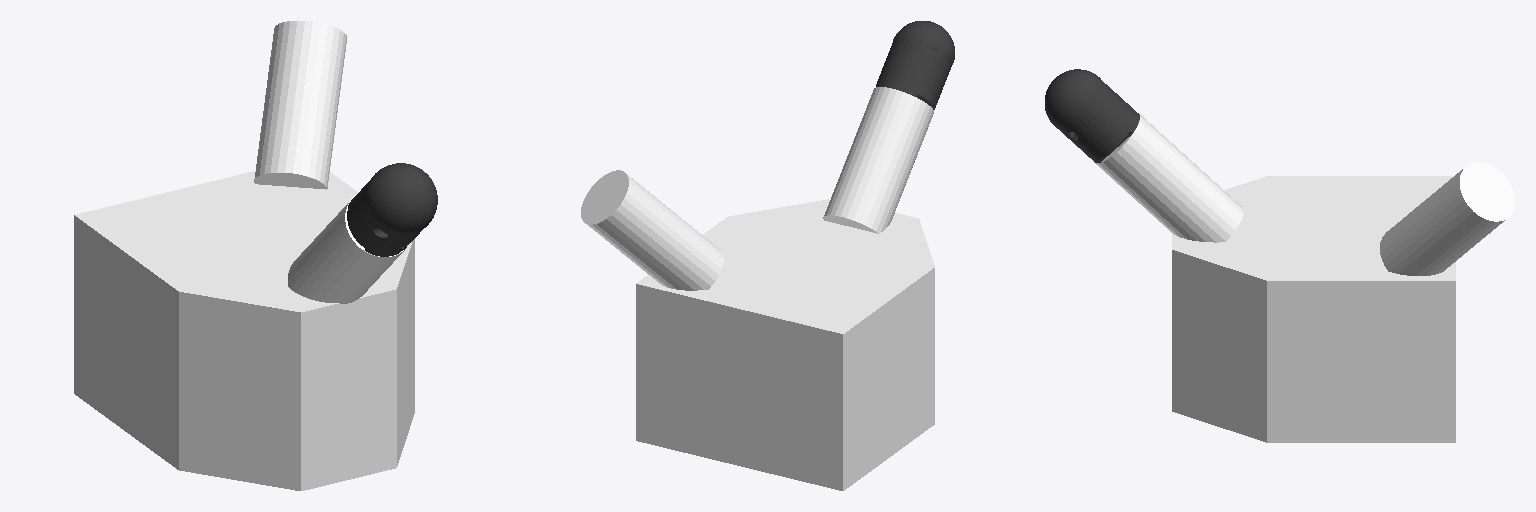
robot.urdf — nasa_hand_urdf:
<?xml version="1.0" encoding="utf-8"?>
<!-- This URDF was automatically created by SolidWorks to URDF Exporter! Originally created by [author] ([email redacted])
     Commit Version: 1.6.0-4-g7f85cfe  Build Version: 1.6.7995.38578
     For more information, please see http://wiki.ros.org/sw_urdf_exporter -->
<robot
  name="nasa_hand_urdf">
  <link
    name="base_link_palm">
    <inertial>
      <origin
        xyz="-0.00055762 0.0025414 0.029616"
        rpy="0 0 0" />
      <mass
        value="0.25708" />
      <inertia
        ixx="7.458E-05"
        ixy="1.1865E-07"
        ixz="5.4297E-08"
        iyy="7.7907E-05"
        iyz="1.2345E-07"
        izz="0.00012736" />
    </inertial>
    <visual>
      <origin
        xyz="0 0 0"
        rpy="0 0 0" />
      <geometry>
        <mesh
          filename="package://nasa_hand_urdf/meshes/base_link_palm.STL" />
      </geometry>
      <material
        name="">
        <color
          rgba="1 1 1 0.3" />
      </material>
    </visual>
    <collision>
      <origin
        xyz="0 0 0"
        rpy="0 0 0" />
      <geometry>
        <mesh
          filename="package://nasa_hand_urdf/meshes/base_link_palm.STL" />
      </geometry>
    </collision>
  </link>
  <link
    name="finger1_roll_link">
    <inertial>
      <origin
        xyz="0.00014313 -0.014271 -0.0057664"
        rpy="0 0 0" />
      <mass
        value="0.018446" />
      <inertia
        ixx="1.6174E-06"
        ixy="5.4354E-09"
        ixz="1.014E-07"
        iyy="1.1621E-06"
        iyz="6.8814E-08"
        izz="1.1208E-06" />
    </inertial>
    <visual>
      <origin
        xyz="0 0 0"
        rpy="0 0 0" />
      <geometry>
        <mesh
          filename="package://nasa_hand_urdf/meshes/finger1_roll_link.STL" />
      </geometry>
      <material
        name="">
        <color
          rgba="0.7 0.7 0.7 1" />
      </material>
    </visual>
    <collision>
      <origin
        xyz="0 0 0"
        rpy="0 0 0" />
      <geometry>
        <mesh
          filename="package://nasa_hand_urdf/meshes/finger1_roll_link.STL" />
      </geometry>
    </collision>
  </link>
  <joint
    name="finger1_roll_joint"
    type="revolute">
    <origin
      xyz="-0.028 0.035 0.068"
      rpy="1.5708 0 0" />
    <parent
      link="base_link_palm" />
    <child
      link="finger1_roll_link" />
    <axis
      xyz="0 -1 0" />
    <limit
      lower="-1.57"
      upper="1.57"
      effort="0"
      velocity="0" />
  </joint>
  <link
    name="finger1_prox_link">
    <inertial>
      <origin
        xyz="0.00018393 0.016237 -0.00090958"
        rpy="0 0 0" />
      <mass
        value="0.012652" />
      <inertia
        ixx="2.4154E-06"
        ixy="-5.8498E-08"
        ixz="7.1694E-09"
        iyy="6.8522E-07"
        iyz="1.0987E-07"
        izz="2.1181E-06" />
    </inertial>
    <visual>
      <origin
        xyz="0 0 0"
        rpy="0 0 0" />
      <geometry>
        <mesh
          filename="package://nasa_hand_urdf/meshes/finger1_prox_link.STL" />
      </geometry>
      <material
        name="">
        <color
          rgba="1 1 1 1" />
      </material>
    </visual>
    <collision>
      <origin
        xyz="0 0 0"
        rpy="0 0 0" />
      <geometry>
        <mesh
          filename="package://nasa_hand_urdf/meshes/finger1_prox_link.STL" />
      </geometry>
    </collision>
  </link>
  <joint
    name="finger1_prox_joint"
    type="revolute">
    <origin
      xyz="0 0 0"
      rpy="-0.7854 0 0" />
    <parent
      link="finger1_roll_link" />
    <child
      link="finger1_prox_link" />
    <axis
      xyz="-1 0 0" />
    <limit
      lower="-1.57"
      upper="1.57"
      effort="0"
      velocity="0" />
  </joint>
  <link
    name="finger1_dist_link">
    <inertial>
      <origin
        xyz="-0.00029905 0.018376 -0.0012278"
        rpy="0 0 0" />
      <mass
        value="0.013163" />
      <inertia
        ixx="1.1183E-06"
        ixy="5.3426E-09"
        ixz="3.1377E-10"
        iyy="7.8383E-07"
        iyz="1.1248E-08"
        izz="9.3332E-07" />
    </inertial>
    <visual>
      <origin
        xyz="0 0 0"
        rpy="0 0 0" />
      <geometry>
        <mesh
          filename="package://nasa_hand_urdf/meshes/finger1_dist_link.STL" />
      </geometry>
      <material
        name="">
        <color
          rgba="0.3 0.3 0.3 1" />
      </material>
    </visual>
    <collision>
      <origin
        xyz="0 0 0"
        rpy="0 0 0" />
      <geometry>
        <mesh
          filename="package://nasa_hand_urdf/meshes/finger1_dist_link.STL" />
      </geometry>
    </collision>
  </link>
  <joint
    name="finger1_dist_joint"
    type="revolute">
    <origin
      xyz="0 0.05 0"
      rpy="0 0 0" />
    <parent
      link="finger1_prox_link" />
    <child
      link="finger1_dist_link" />
    <axis
      xyz="-1 0 0" />
    <limit
      lower="-1.57"
      upper="1.57"
      effort="0"
      velocity="0" />
  </joint>
  <link
    name="finger2_roll_link">
    <inertial>
      <origin
        xyz="0.00014909 -0.014271 0.0057638"
        rpy="0 0 0" />
      <mass
        value="0.018446" />
      <inertia
        ixx="1.6174E-06"
        ixy="5.4353E-09"
        ixz="-1.014E-07"
        iyy="1.1621E-06"
        iyz="-6.8817E-08"
        izz="1.1208E-06" />
    </inertial>
    <visual>
      <origin
        xyz="0 0 0"
        rpy="0 0 0" />
      <geometry>
        <mesh
          filename="package://nasa_hand_urdf/meshes/finger2_roll_link.STL" />
      </geometry>
      <material
        name="">
        <color
          rgba="0.7 0.7 0.7 1" />
      </material>
    </visual>
    <collision>
      <origin
        xyz="0 0 0"
        rpy="0 0 0" />
      <geometry>
        <mesh
          filename="package://nasa_hand_urdf/meshes/finger2_roll_link.STL" />
      </geometry>
    </collision>
  </link>
  <joint
    name="finger2_roll_joint"
    type="revolute">
    <origin
      xyz="0.028 0.035 0.068"
      rpy="1.5708 0 2.4435" />
    <parent
      link="base_link_palm" />
    <child
      link="finger2_roll_link" />
    <axis
      xyz="0 -1 0" />
    <limit
      lower="-1.57"
      upper="1.57"
      effort="0"
      velocity="0" />
  </joint>
  <link
    name="finger2_prox_link">
    <inertial>
      <origin
        xyz="-0.00014689 0.019465 0.0011631"
        rpy="0 0 0" />
      <mass
        value="0.01395" />
      <inertia
        ixx="2.3886E-06"
        ixy="-5.9238E-08"
        ixz="-6.8093E-09"
        iyy="6.8615E-07"
        iyz="-1.1112E-07"
        izz="2.1183E-06" />
    </inertial>
    <visual>
      <origin
        xyz="0 0 0"
        rpy="0 0 0" />
      <geometry>
        <mesh
          filename="package://nasa_hand_urdf/meshes/finger2_prox_link.STL" />
      </geometry>
      <material
        name="">
        <color
          rgba="1 1 1 1" />
      </material>
    </visual>
    <collision>
      <origin
        xyz="0 0 0"
        rpy="0 0 0" />
      <geometry>
        <mesh
          filename="package://nasa_hand_urdf/meshes/finger2_prox_link.STL" />
      </geometry>
    </collision>
  </link>
  <joint
    name="finger2_prox_joint"
    type="revolute">
    <origin
      xyz="0 0 0"
      rpy="0.7854 0 0" />
    <parent
      link="finger2_roll_link" />
    <child
      link="finger2_prox_link" />
    <axis
      xyz="1 0 0" />
    <limit
      lower="-1.57"
      upper="1.57"
      effort="0"
      velocity="0" />
  </joint>
  <link
    name="finger2_dist_link">
    <inertial>
      <origin
        xyz="-0.00029903 0.018376 0.0012279"
        rpy="0 0 0" />
      <mass
        value="0.013163" />
      <inertia
        ixx="1.1183E-06"
        ixy="5.3424E-09"
        ixz="-3.1446E-10"
        iyy="7.8384E-07"
        iyz="-1.1246E-08"
        izz="9.3333E-07" />
    </inertial>
    <visual>
      <origin
        xyz="0 0 0"
        rpy="0 0 0" />
      <geometry>
        <mesh
          filename="package://nasa_hand_urdf/meshes/finger2_dist_link.STL" />
      </geometry>
      <material
        name="">
        <color
          rgba="0.3 0.3 0.3 1" />
      </material>
    </visual>
    <collision>
      <origin
        xyz="0 0 0"
        rpy="0 0 0" />
      <geometry>
        <mesh
          filename="package://nasa_hand_urdf/meshes/finger2_dist_link.STL" />
      </geometry>
    </collision>
  </link>
  <joint
    name="finger2_dist_joint"
    type="revolute">
    <origin
      xyz="0 0.05 0"
      rpy="0 0 0" />
    <parent
      link="finger2_prox_link" />
    <child
      link="finger2_dist_link" />
    <axis
      xyz="-1 0 0" />
    <limit
      lower="-1.57"
      upper="1.57"
      effort="0"
      velocity="0" />
  </joint>
  <link
    name="thumb_prox_link">
    <inertial>
      <origin
        xyz="-0.00024351 0.01978 -0.00093343"
        rpy="0 0 0" />
      <mass
        value="0.012808" />
      <inertia
        ixx="2.562E-06"
        ixy="-6.3477E-08"
        ixz="5.3455E-09"
        iyy="6.4847E-07"
        iyz="1.176E-07"
        izz="2.2147E-06" />
    </inertial>
    <visual>
      <origin
        xyz="0 0 0"
        rpy="0 0 0" />
      <geometry>
        <mesh
          filename="package://nasa_hand_urdf/meshes/thumb_prox_link.STL" />
      </geometry>
      <material
        name="">
        <color
          rgba="1 1 1 1" />
      </material>
    </visual>
    <collision>
      <origin
        xyz="0 0 0"
        rpy="0 0 0" />
      <geometry>
        <mesh
          filename="package://nasa_hand_urdf/meshes/thumb_prox_link.STL" />
      </geometry>
    </collision>
  </link>
  <joint
    name="thumb_prox_joint"
    type="revolute">
    <origin
      xyz="0 -0.035 0.066"
      rpy="0.7854 0 -3.1416" />
    <parent
      link="base_link_palm" />
    <child
      link="thumb_prox_link" />
    <axis
      xyz="-1 0 0" />
    <limit
      lower="-1.57"
      upper="1.57"
      effort="0"
      velocity="0" />
  </joint>
  <link
    name="thumb_dist_link">
    <inertial>
      <origin
        xyz="-0.00011938 0.019176 -0.0006828"
        rpy="0 0 0" />
      <mass
        value="0.011666" />
      <inertia
        ixx="1.155E-06"
        ixy="2.3661E-09"
        ixz="7.5359E-10"
        iyy="7.2966E-07"
        iyz="1.4996E-08"
        izz="9.104E-07" />
    </inertial>
    <visual>
      <origin
        xyz="0 0 0"
        rpy="0 0 0" />
      <geometry>
        <mesh
          filename="package://nasa_hand_urdf/meshes/thumb_dist_link.STL" />
      </geometry>
      <material
        name="">
        <color
          rgba="0.3 0.3 0.3 1" />
      </material>
    </visual>
    <collision>
      <origin
        xyz="0 0 0"
        rpy="0 0 0" />
      <geometry>
        <mesh
          filename="package://nasa_hand_urdf/meshes/thumb_dist_link.STL" />
      </geometry>
    </collision>
  </link>
  <joint
    name="thumb_dist_joint"
    type="revolute">
    <origin
      xyz="0 0.05 0"
      rpy="0 0 0" />
    <parent
      link="thumb_prox_link" />
    <child
      link="thumb_dist_link" />
    <axis
      xyz="-1 0 0" />
    <limit
      lower="-1.57"
      upper="1.57"
      effort="0"
      velocity="0" />
  </joint>
</robot>

--- Facts derived from the render (not from the file) ---
Views: 3 orthographic renders of the robot side by side, from view 1: azimuth 30°, elevation 25°; view 2: azimuth 150°, elevation 25°; view 3: azimuth 270°, elevation 25°.
Robot: nasa_hand_urdf — 9 links, 8 joints (8 revolute); root link base_link_palm; default pose: all joints at 0.
Links seen in each view (by area): view 1: base_link_palm, finger2_prox_link, thumb_dist_link, thumb_prox_link; view 2: base_link_palm, finger2_prox_link, thumb_prox_link, thumb_dist_link; view 3: base_link_palm, thumb_prox_link, finger2_prox_link, thumb_dist_link.
Boxes of the visible links, box(x1,y1,x2,y2) form: base_link_palm: box(74, 171, 414, 490); finger2_prox_link: box(254, 20, 346, 189); thumb_dist_link: box(347, 163, 437, 256); thumb_prox_link: box(288, 195, 408, 303); base_link_palm: box(636, 199, 934, 490); finger2_prox_link: box(581, 170, 723, 290); thumb_prox_link: box(823, 87, 933, 233); thumb_dist_link: box(876, 21, 954, 109); base_link_palm: box(1172, 176, 1455, 442); thumb_prox_link: box(1094, 114, 1243, 242); finger2_prox_link: box(1380, 162, 1515, 275); thumb_dist_link: box(1045, 69, 1139, 162).
Size in the robot's own frame: 0.1124 by 0.1792 by 0.1335 metres.
4 mesh visuals loaded from 9 distinct referenced files (4 binary STL); not drawn: 5 (reference not matched to a file when rendering).